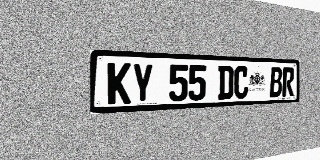5: (169, 64, 188, 102), (188, 65, 206, 101)
B: (270, 67, 282, 97)
C: (234, 66, 249, 99)
D: (218, 66, 234, 100)
K: (107, 62, 131, 105)
R: (282, 67, 294, 97)
Y: (132, 63, 153, 103)
